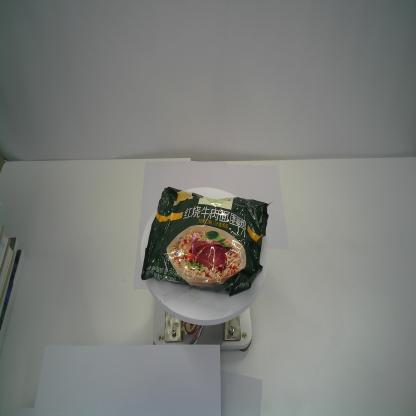Instant Noodles: (140, 183, 271, 297)
